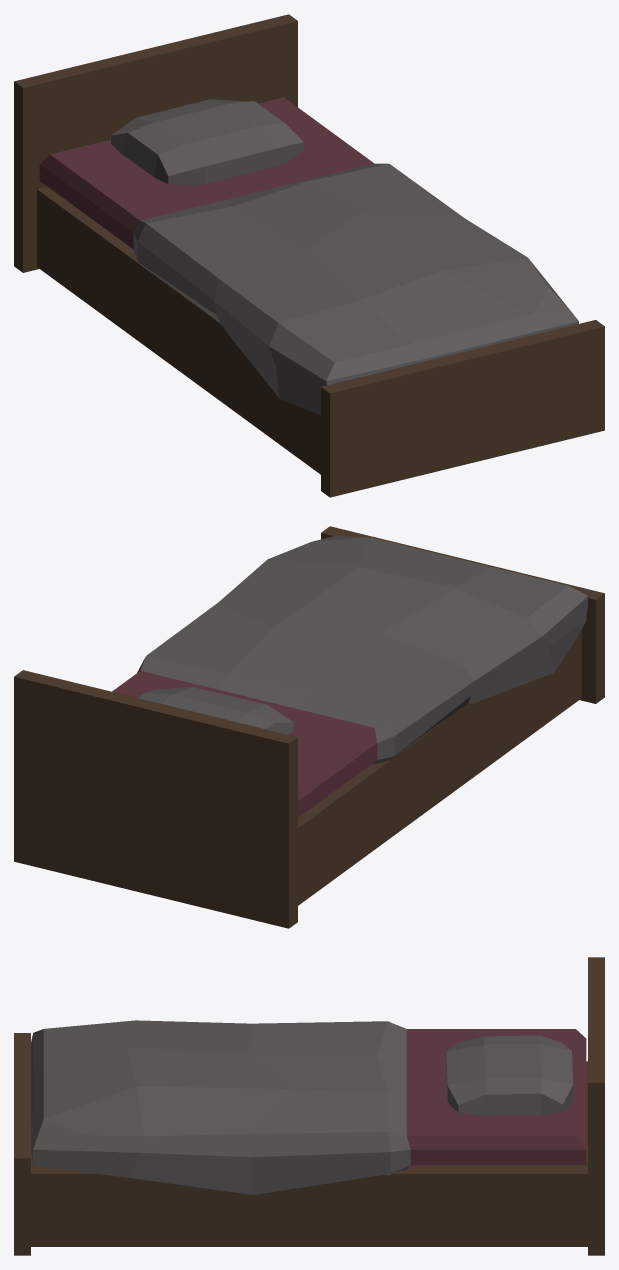
The model's file is bed-single-modern.fbx.
3 views of the same model, one above another, from view 1: azimuth 30°, elevation 25°; view 2: azimuth 150°, elevation 25°; view 3: azimuth 270°, elevation 25° (orthographic). The views are drawn at different scales.
Visible parts, largest first — view 1: bed-single-modern; view 2: bed-single-modern; view 3: bed-single-modern.
Part boxes in pixels (bbox=[...]): bed-single-modern: bbox=[14, 14, 604, 497]; bed-single-modern: bbox=[14, 526, 604, 928]; bed-single-modern: bbox=[14, 957, 604, 1255].
Size of the model in its own units: 1.05 by 0.6748 by 2.09.
